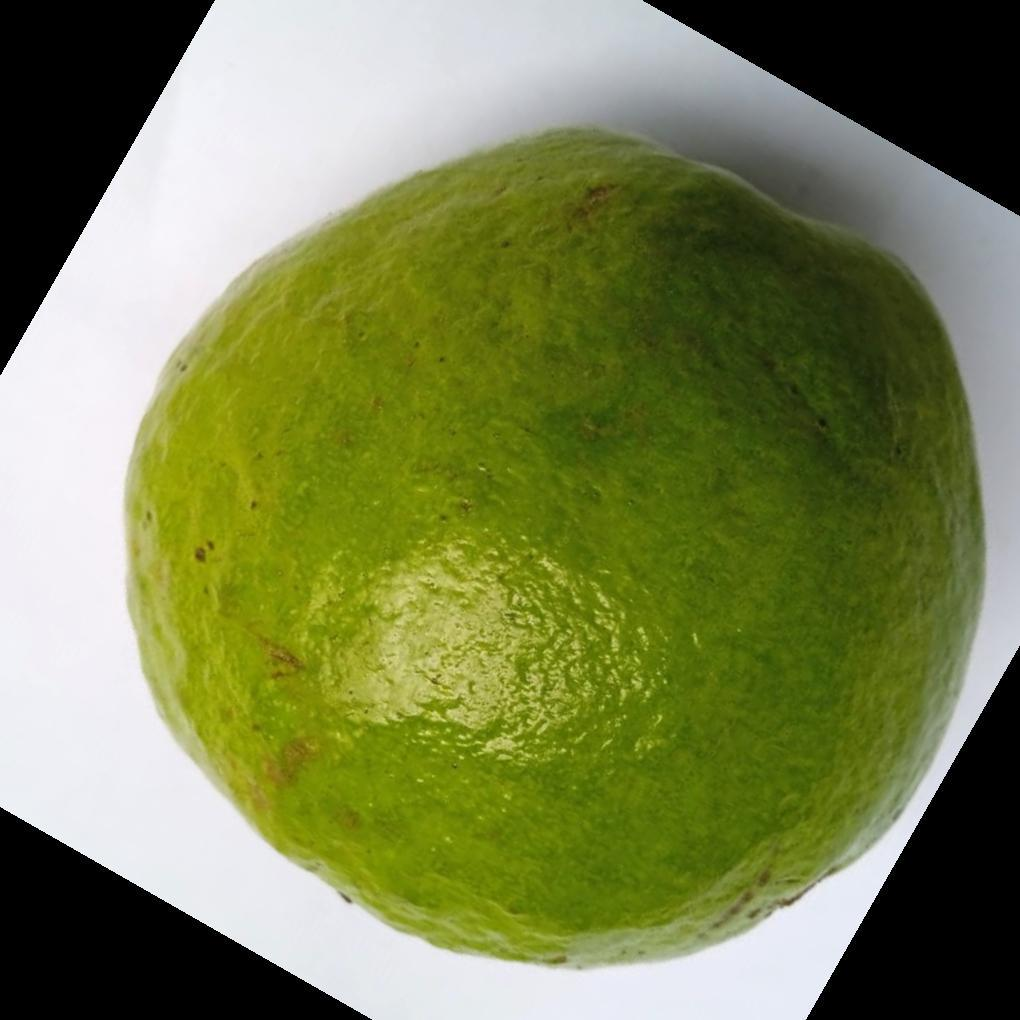FreshGuava: (120, 128, 988, 975)
